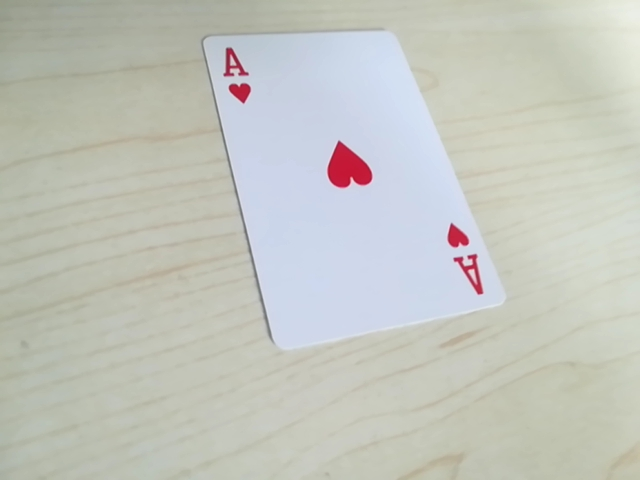hx a: (446, 224, 486, 301), (211, 45, 253, 112)
